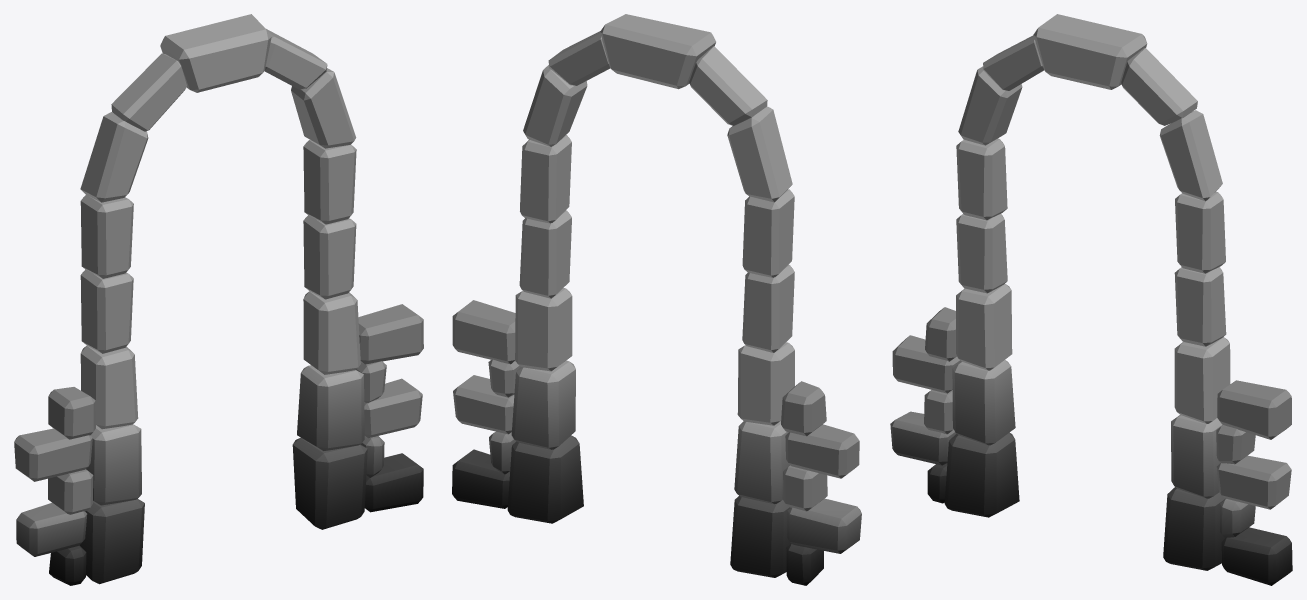
The model's file is BrickArchway_02_1.5x2.75_Walled_1m.fbx.
The picture shows the model from 3 angles, left to right: view 1: azimuth 30°, elevation 25°; view 2: azimuth 150°, elevation 25°; view 3: azimuth 330°, elevation 25°; orthographic projection.
Visible parts, largest first — view 1: BrickArchway_02_1.5x2.75_Walled_1m; view 2: BrickArchway_02_1.5x2.75_Walled_1m; view 3: BrickArchway_02_1.5x2.75_Walled_1m.
Boxes of the visible parts, left/top/right/bottom form: BrickArchway_02_1.5x2.75_Walled_1m: left=14, top=14, right=423, bottom=585; BrickArchway_02_1.5x2.75_Walled_1m: left=452, top=14, right=861, bottom=585; BrickArchway_02_1.5x2.75_Walled_1m: left=890, top=14, right=1292, bottom=585.
Size of the model in its own units: 221 by 275 by 30.04.
